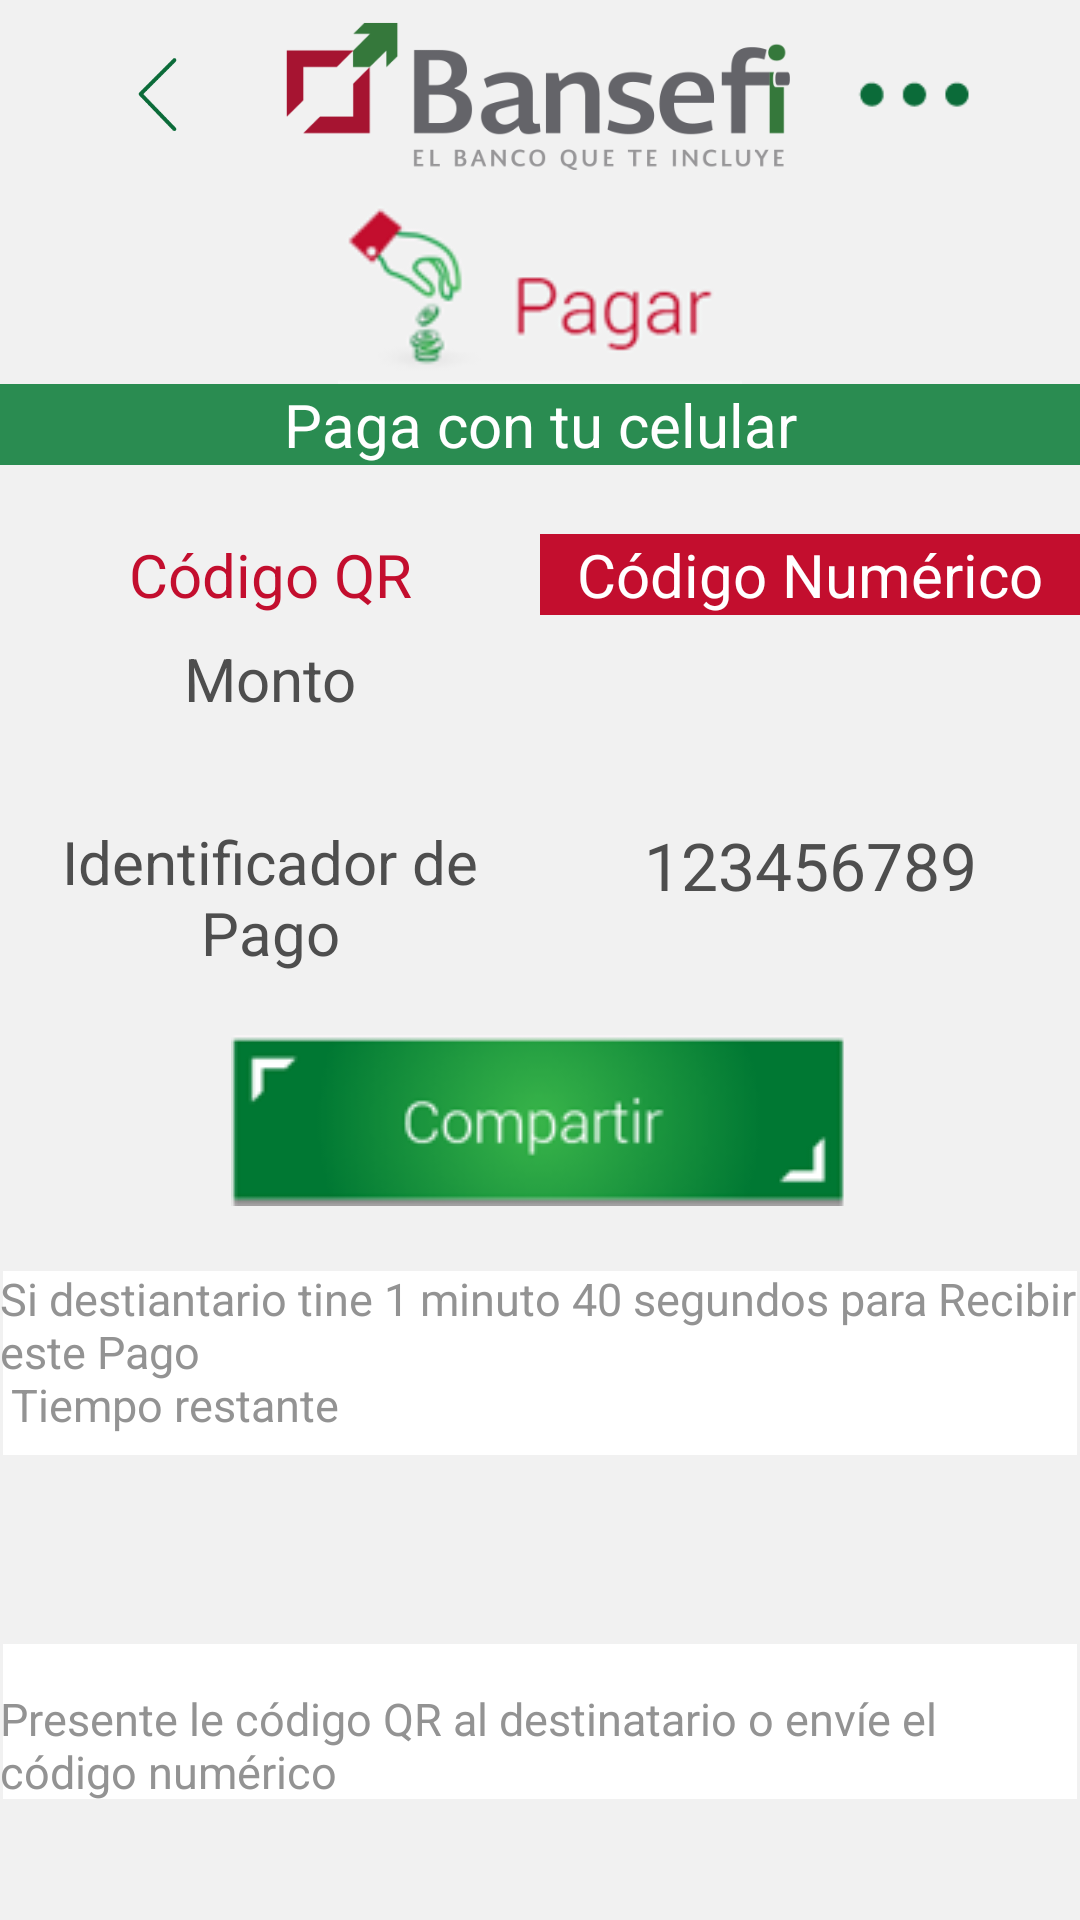

Named icons in this screenshot (1080px×1920px) and their bounding boxes, (x1, y1, x2, y2):
return: (138, 58, 177, 131)
settings: (859, 82, 969, 107)
